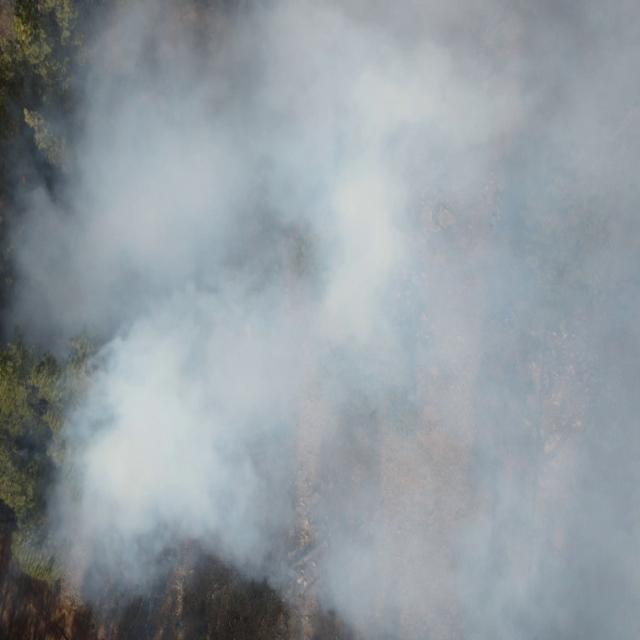smoke: (87, 0, 640, 569), (243, 567, 640, 640), (0, 52, 87, 362), (18, 366, 86, 585), (86, 568, 175, 636)
